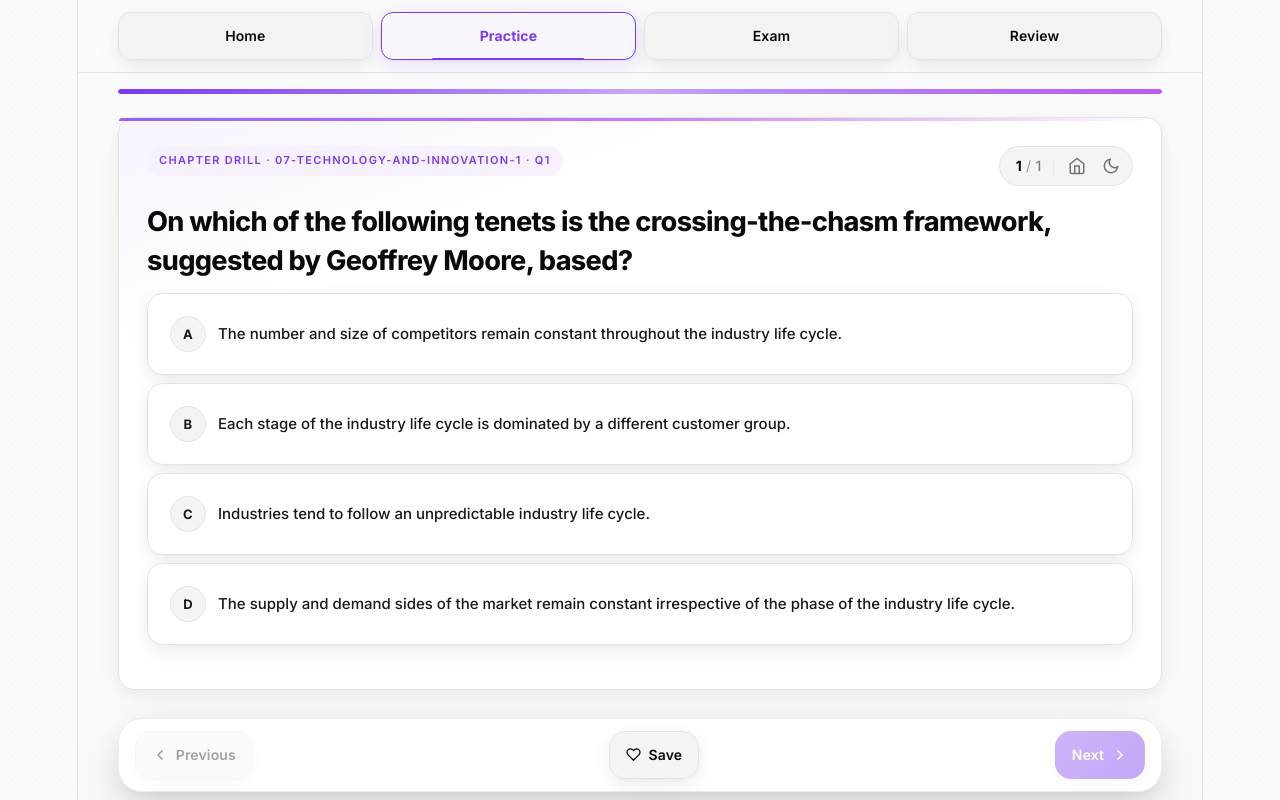
Test: app shell routes › shows authored explanations after a correct answer in technology and innovation part 1 practice
Expected: the heading named "On which of the following tenets is the crossing-the-chasm framework, suggested by Geoffrey Moore, based?" is shown, [147, 202, 1133, 281]
Click the button with aria-label "B: Each stage of the industry life cycle is dominated by a d". click: [640, 424]
box: [147, 383, 1133, 465]
(page scrolled)
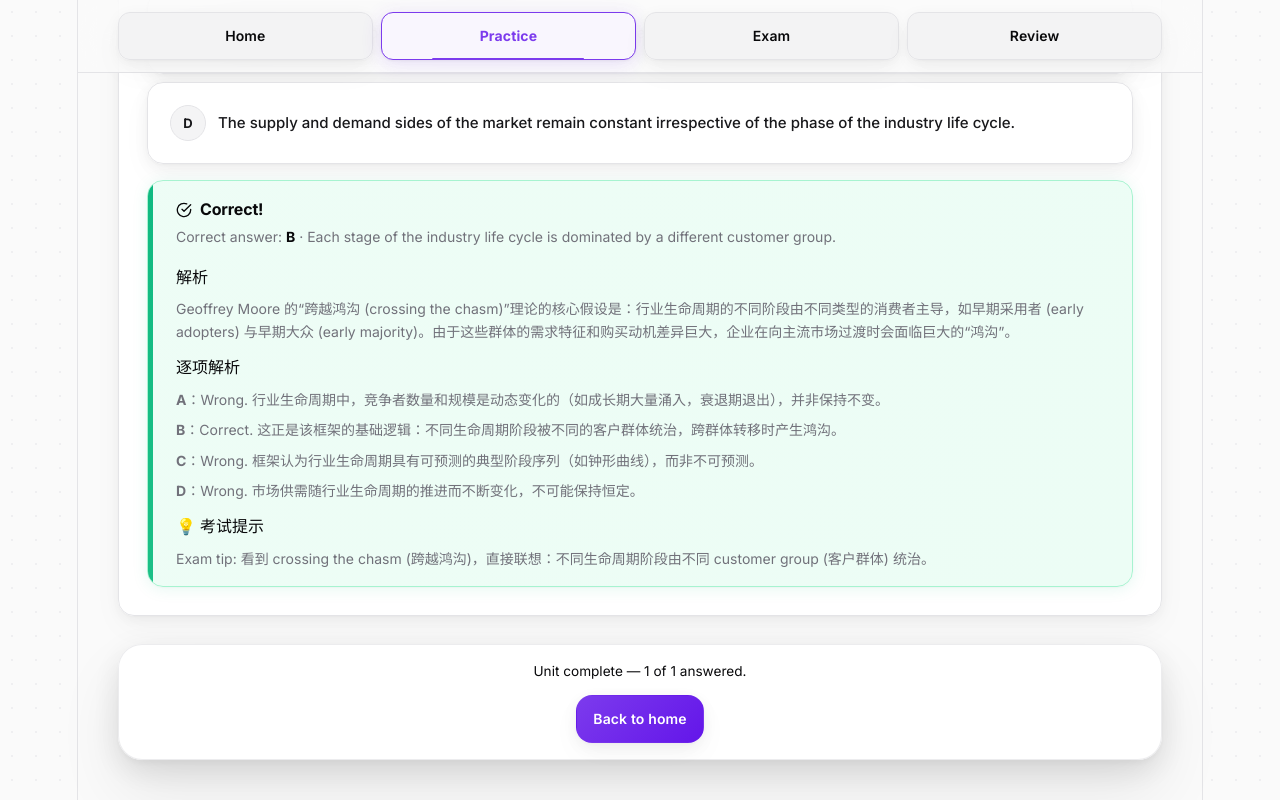
Result: the text "Correct!" is shown at [176, 199, 263, 219]
Result: the text "Geoffrey Moore 的“跨越鸿沟 (crossing the chasm)”理论的核心假设是：行业生命周期的不同阶段由不同类型的消费者主导，如早期采用者 (early adopters) 与早期大众 (early majority" is shown at [176, 300, 1084, 340]
Result: the text "Exam tip: 看到 crossing the chasm (跨越鸿沟)，直接联想：不同生命周期阶段由不同 customer group (客户群体) 统治。" is shown at [176, 550, 935, 567]
